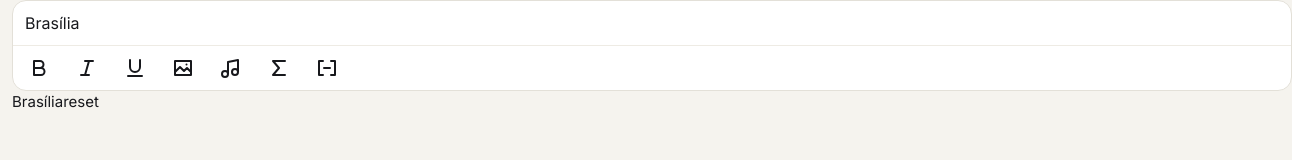
Test case: FieldEditor › wraps the selection in a new cloze deletion
The image size is (1292, 160).
Click the field named "Frente": (52, 23) 25,13 -> 80,33
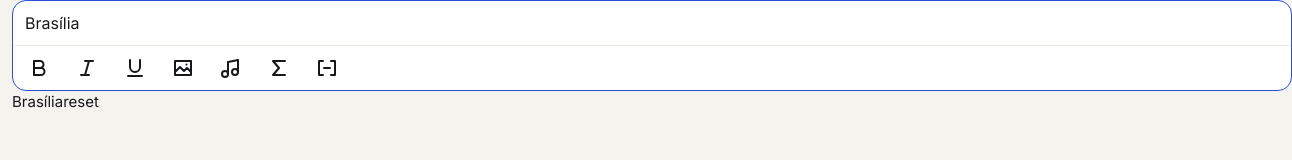
Type keys "{Control>}a{/Control}"
Click the button named "Omissão": (327, 68) 305,46 -> 349,90
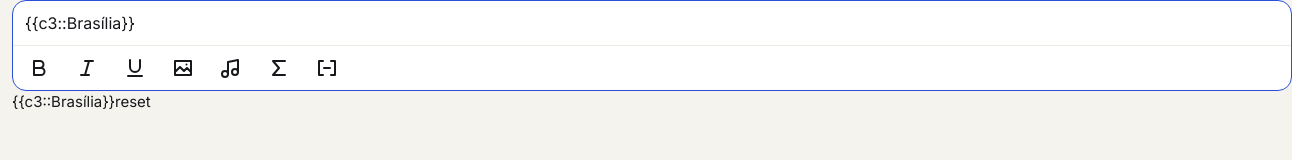
Result: the text box labelled "{{c3::Brasília}}" is shown at 25,13 -> 135,33
